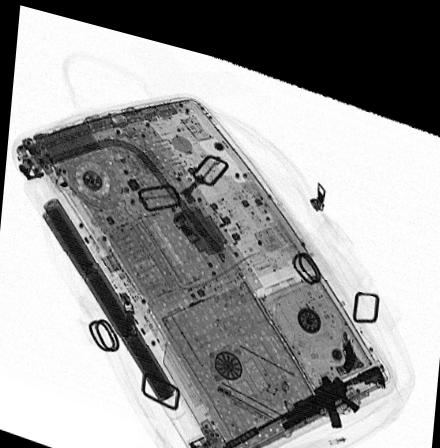Gun: (222, 341, 387, 440)
